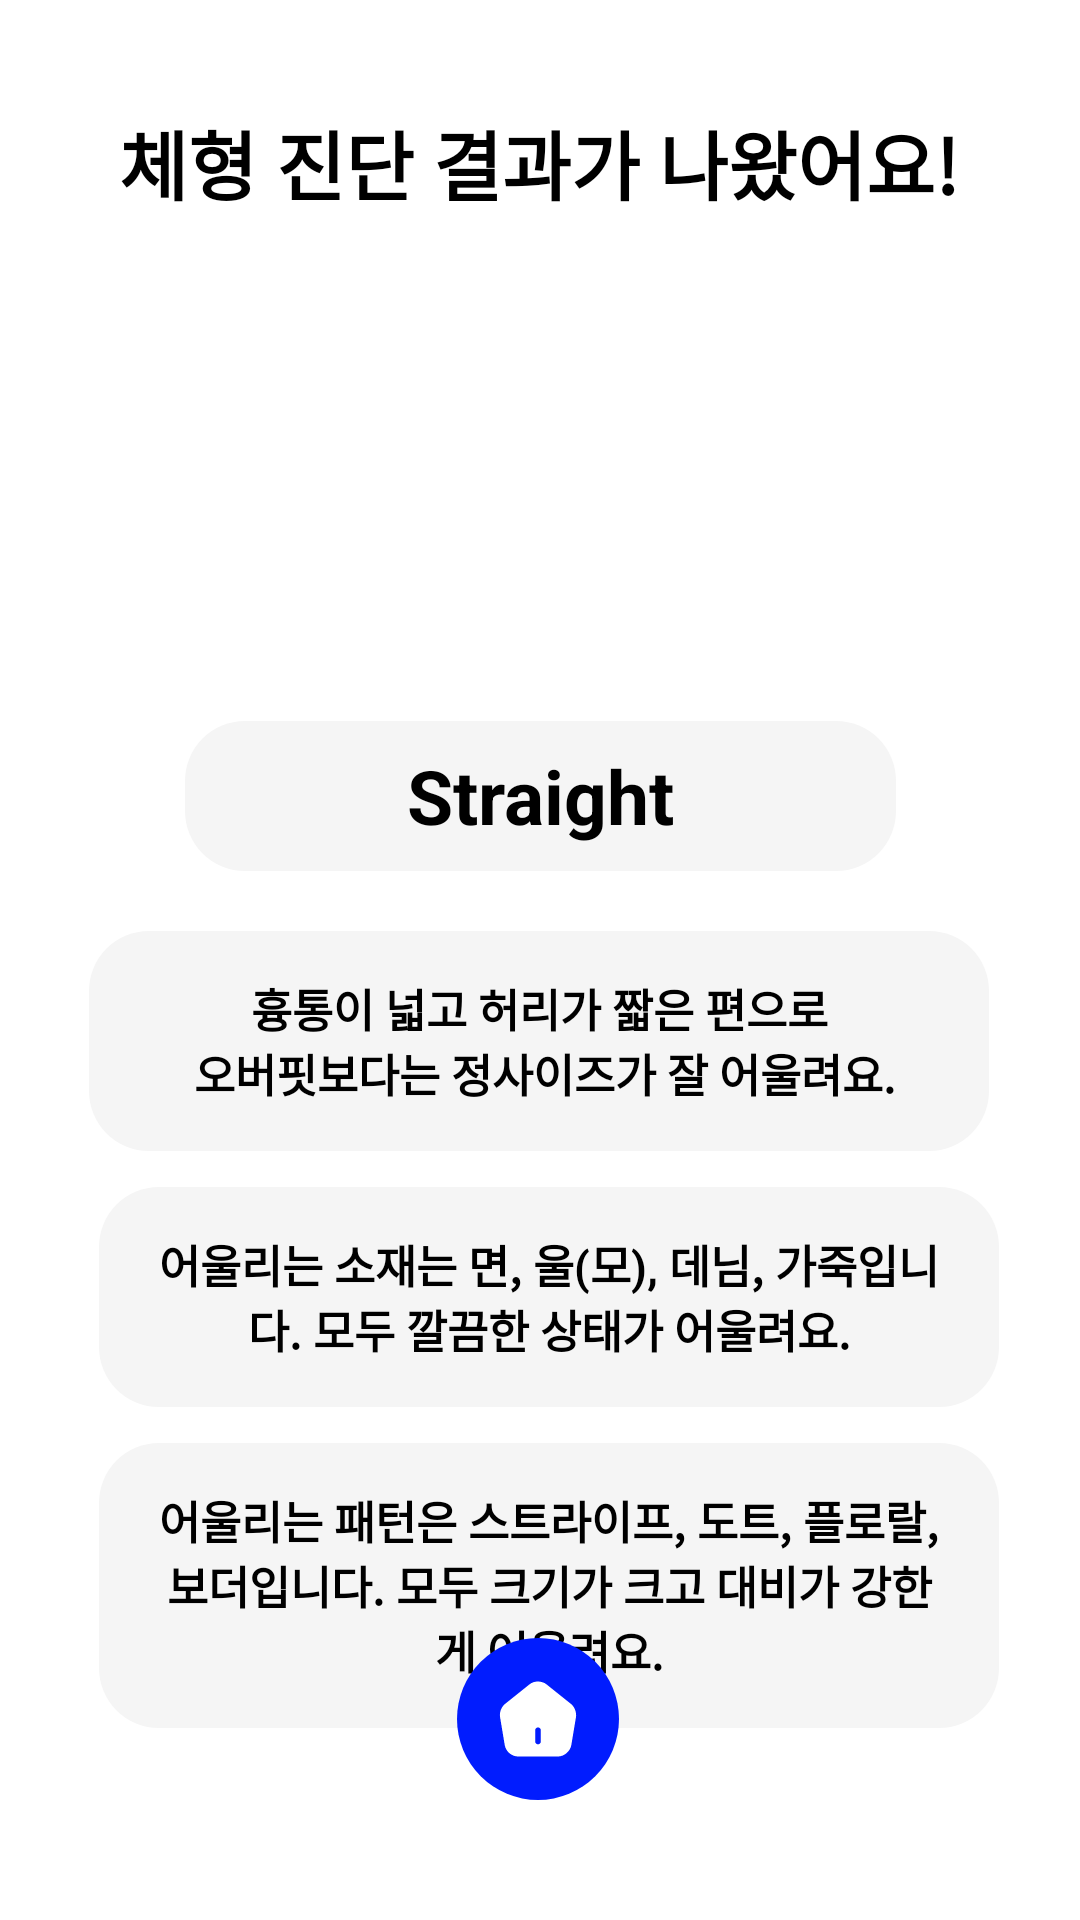

Screen size 1080x1920. Icon name, then its box in pixels as bbox=(x1, y1, x2, y2):
home: bbox=(457, 1638, 619, 1800)
